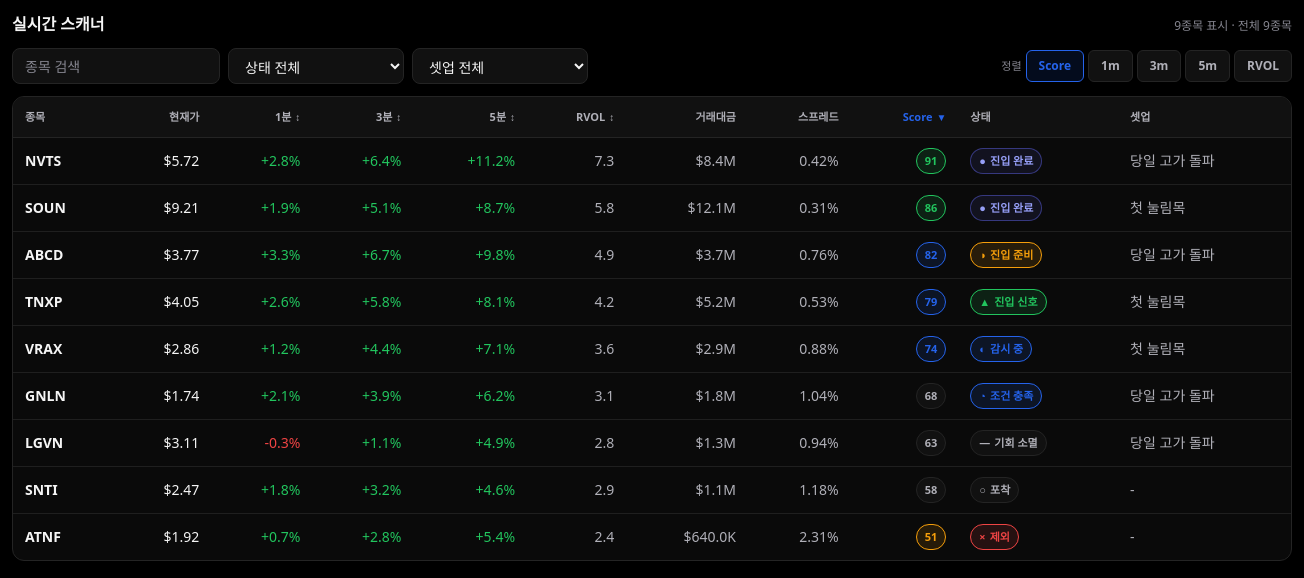
Test: Strategy B scanner behaviour › filters by symbol search, state and setup without touching the source rows
In the field labelled "종목 검색": (116, 66) [12,48,220,84], type "nv"
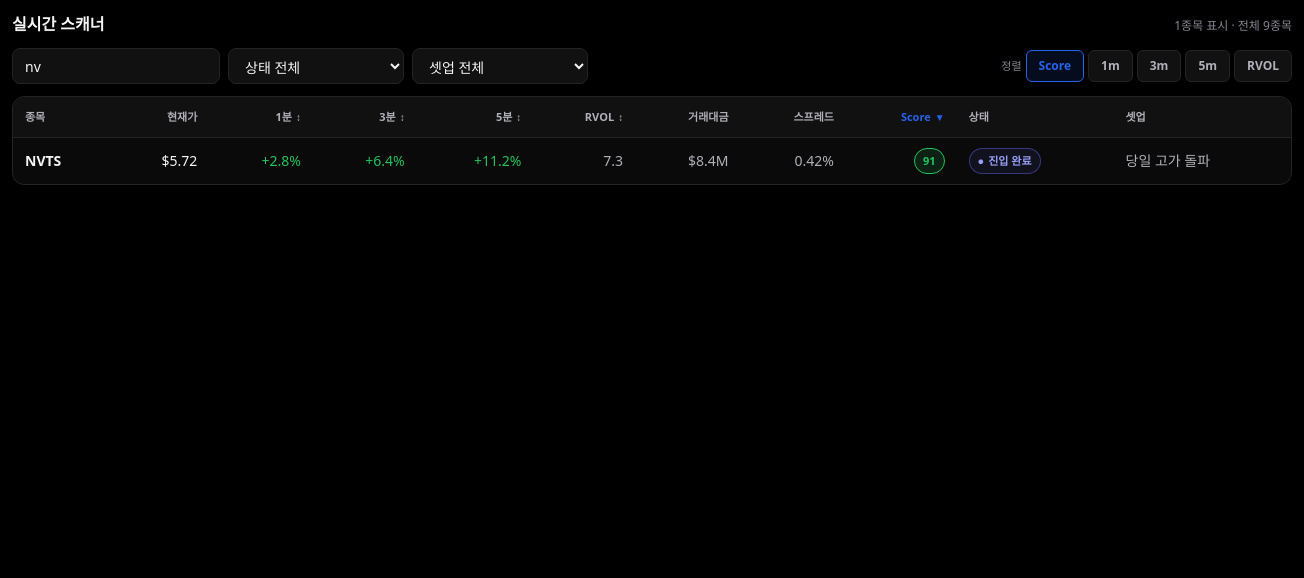
Expected: the button "NVTS" is shown, [25,151,61,171]
Expected: the number of rows is 2, [13,97,1291,138]; [13,138,1291,184]
Clear the field named "종목 검색": (116, 66) [12,48,220,84]
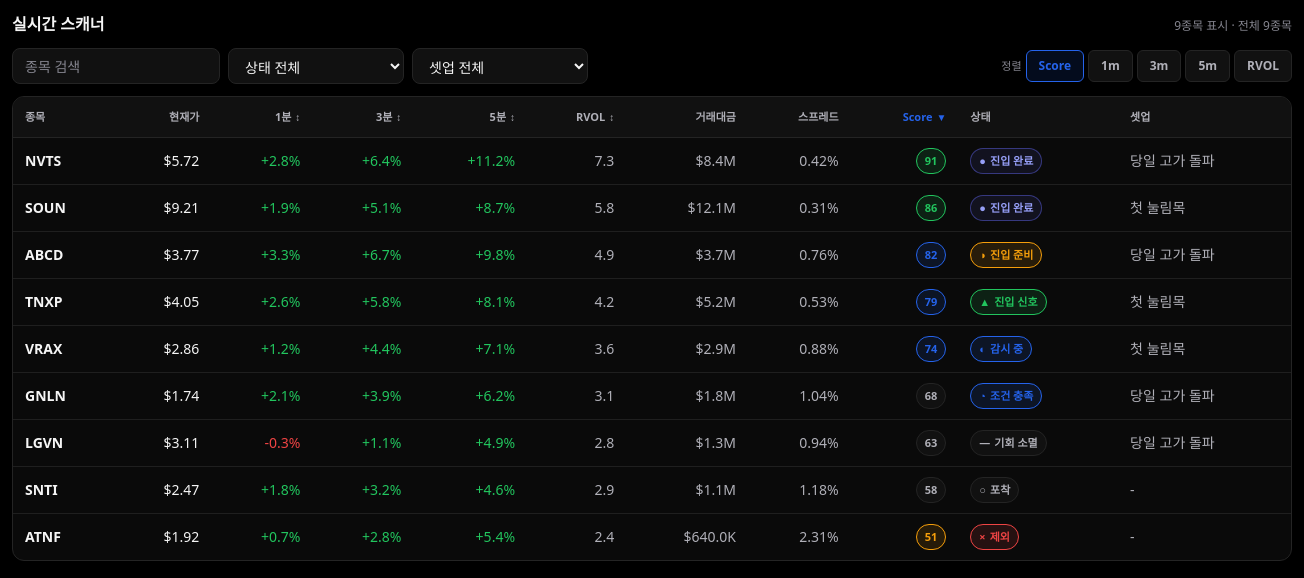
Select "진입 완료 (ENTERED)" in the 1st dropdown named "상태 필터": (316, 66) [228,48,404,84]
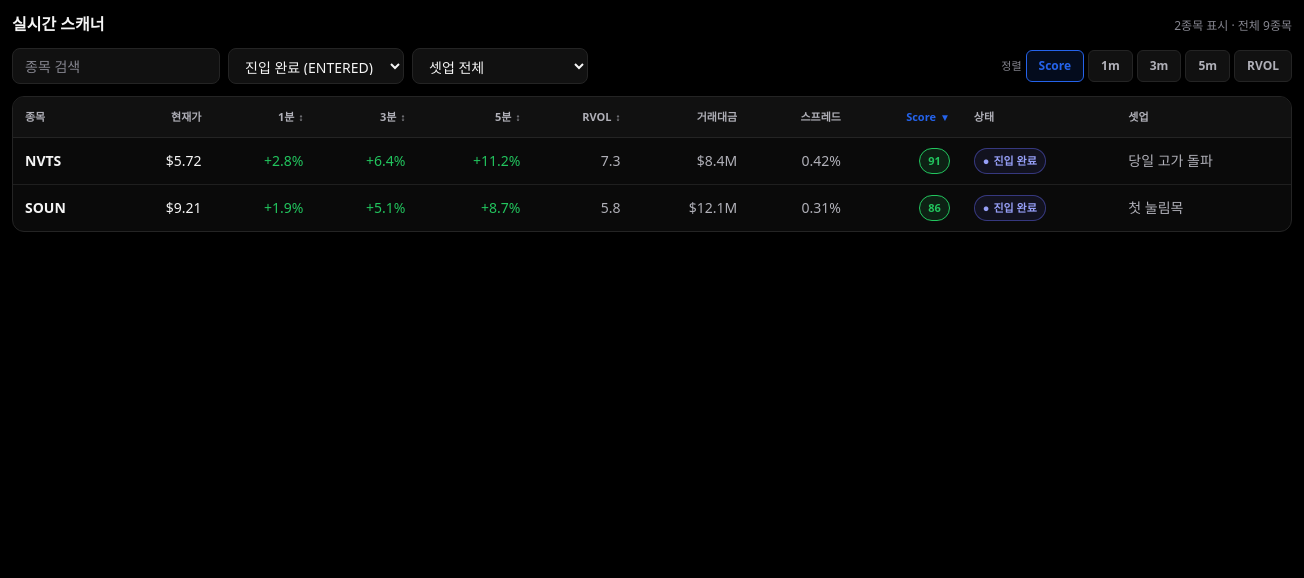
Expected: the number of rows is 3, [13,97,1291,138]; [13,138,1291,184]; [13,184,1291,231]
